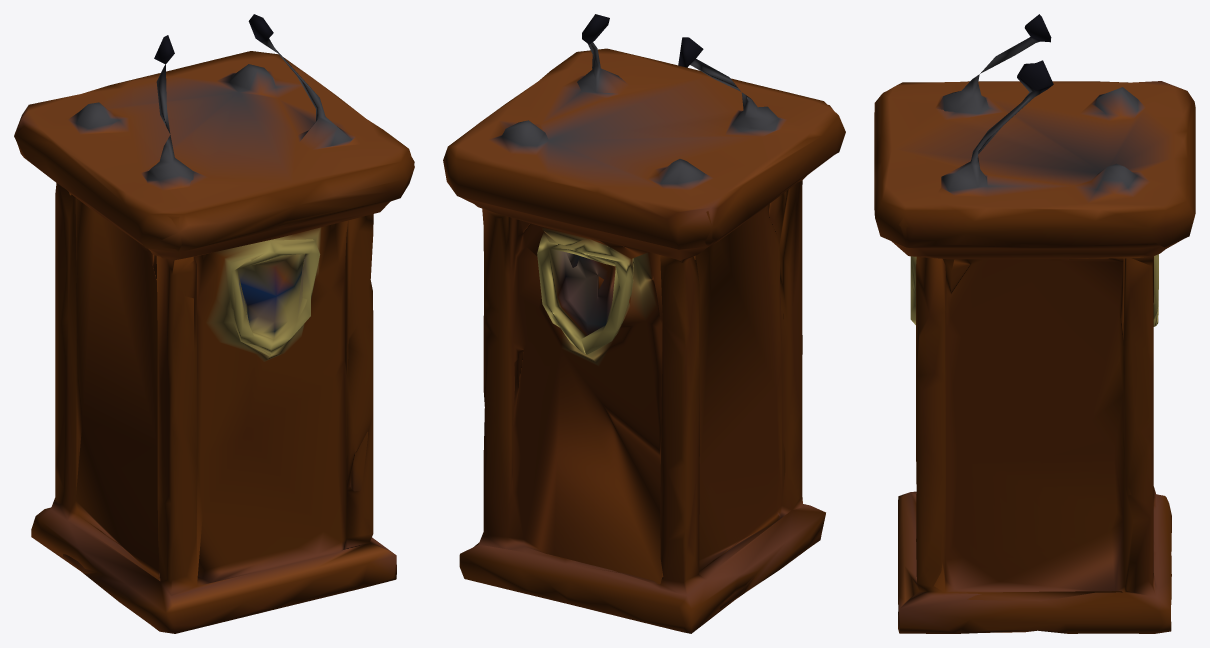
File: gen3d-lecture-podium-lod0.glb
3 renders of one model, left to right at view 1: azimuth 30°, elevation 25°; view 2: azimuth 150°, elevation 25°; view 3: azimuth 270°, elevation 25°, orthographic.
Visible parts, largest first — view 1: part_0; view 2: part_0; view 3: part_0.
Part boxes in pixels (<box>): part_0: <box>14,14,414,633</box>; part_0: <box>443,14,845,633</box>; part_0: <box>874,14,1195,633</box>.
Size of the model in its own units: 0.5398 by 0.9998 by 0.5404.
